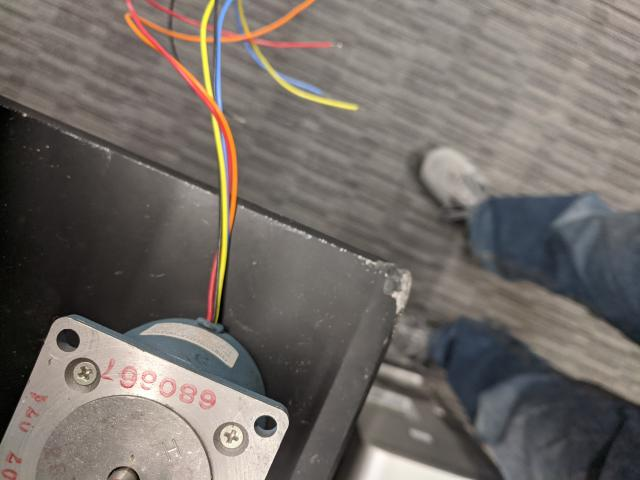CRS: (72, 359, 98, 385), (219, 421, 242, 449)
